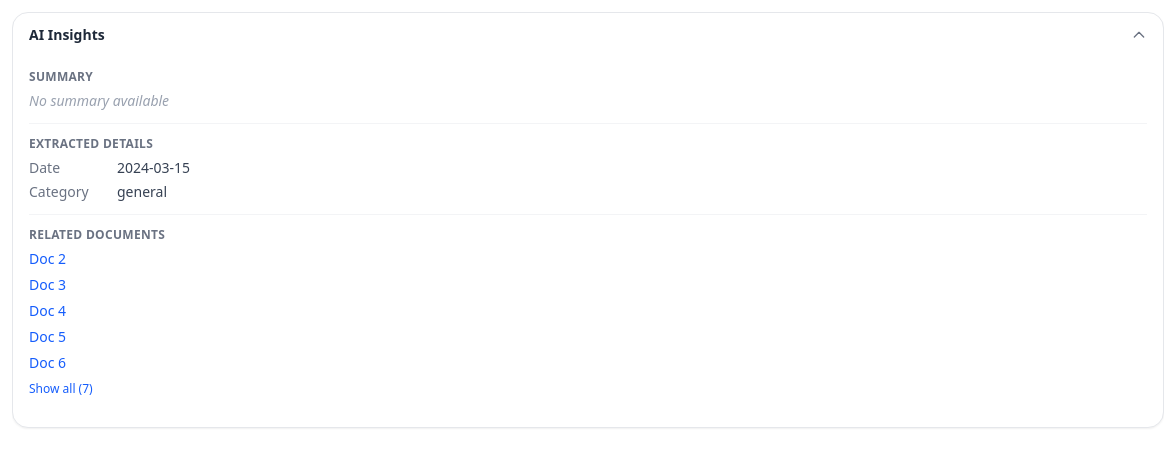
Test case: AiInsightsPanel › expands all linked docs on "Show all" click
Click the button with test id "show-all-linked" at (61, 389), box [29,381,93,397]
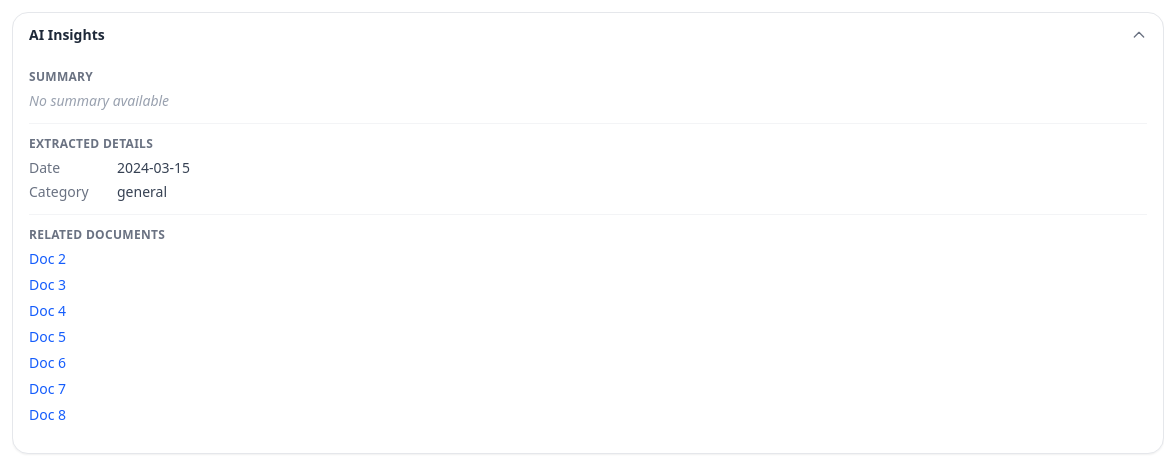
Check: the button with test id "show-all-linked" is gone
Check: the link "Doc 7" is shown, box [29,379,66,398]
